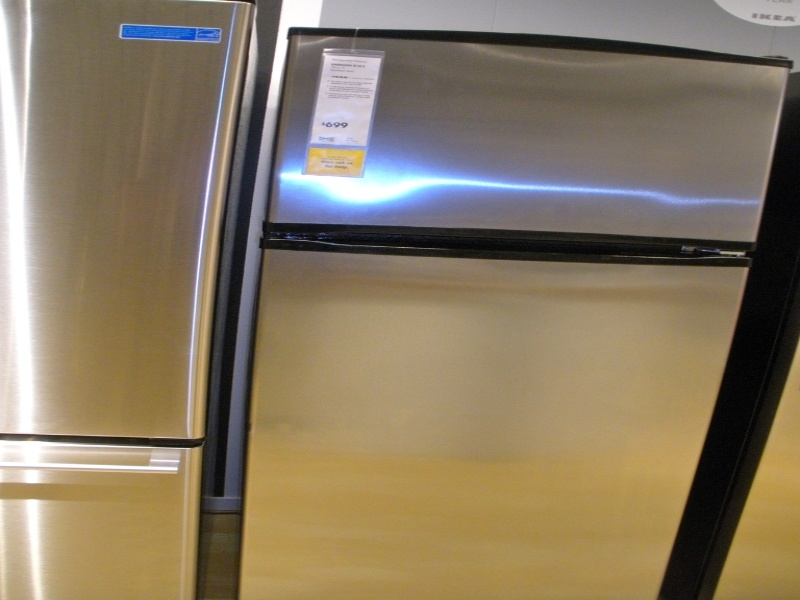refrigerator: (270, 19, 782, 600), (6, 1, 233, 596)
